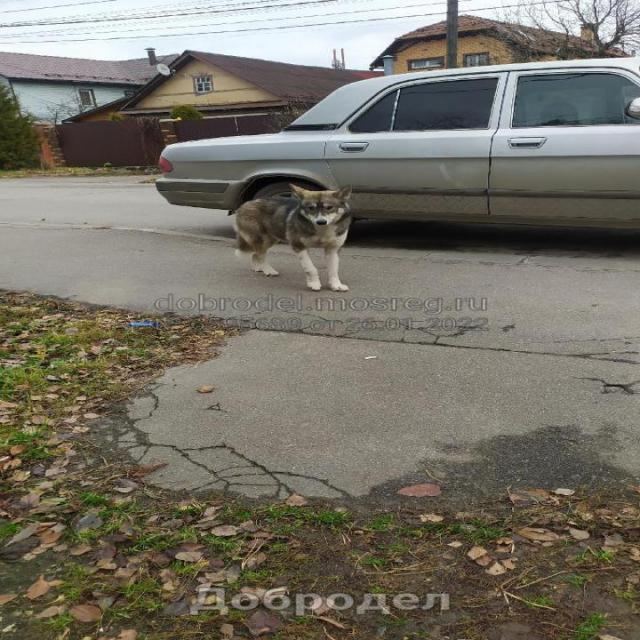car: (155, 57, 640, 228)
dog: (235, 184, 355, 292)
